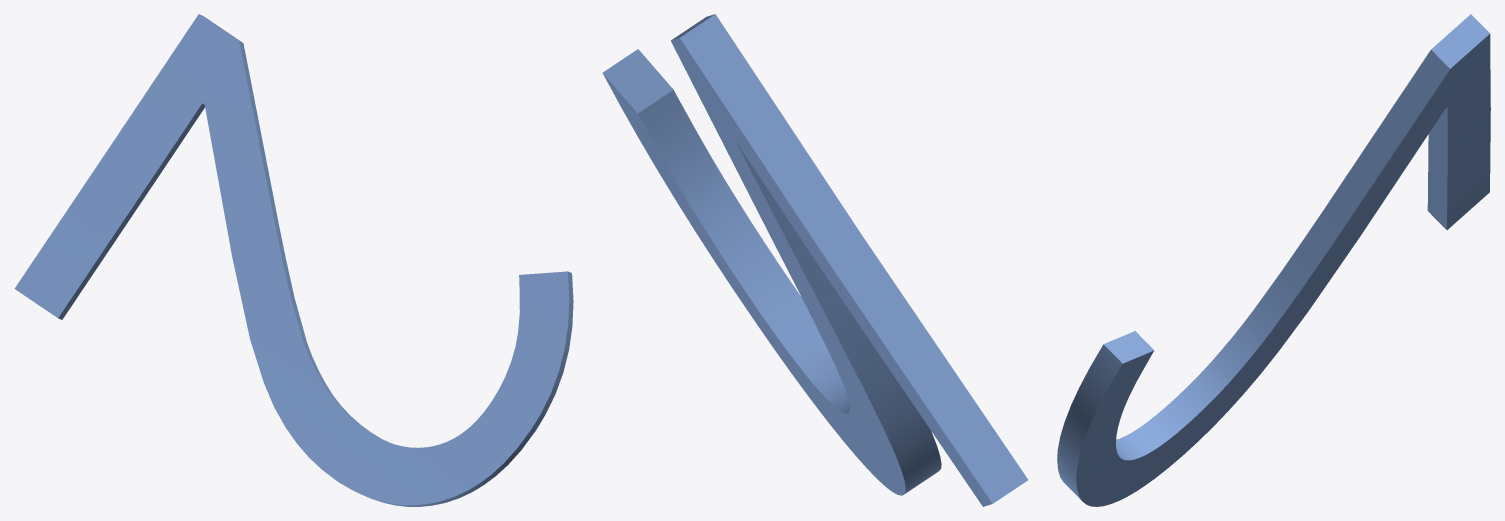
File: New_Number_2.gltf
The picture shows the model from 3 angles, left to right: view 1: azimuth 30°, elevation 25°; view 2: azimuth 150°, elevation 25°; view 3: azimuth 270°, elevation 25°; orthographic projection. The views are drawn at different scales.
Visible parts, largest first — view 1: Part 191; view 2: Part 191; view 3: Part 191.
Part boxes in pixels (bbox=[...]): Part 191: bbox=[14, 14, 573, 506]; Part 191: bbox=[602, 14, 1028, 506]; Part 191: bbox=[1057, 14, 1490, 506].
Bounding box in the file's own units: 0.00467 × 0.00437 × 0.00382.
